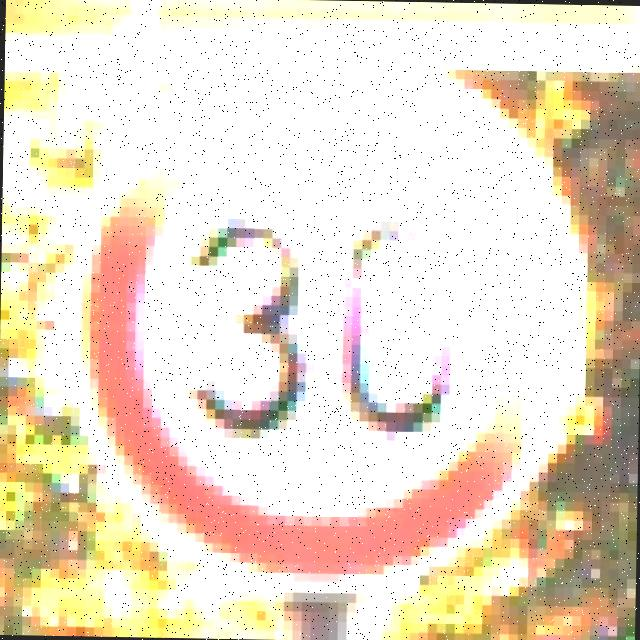Ograniczenie predkosci do 30: (89, 58, 590, 589)
